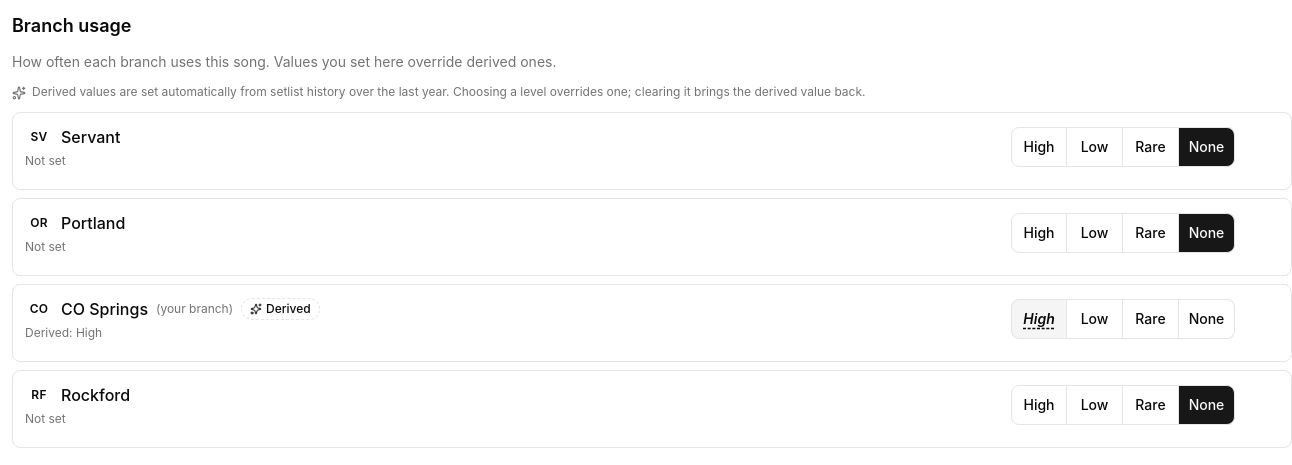
Test: UsageSection › clears a manual value back to none, or back to the derived value
Click the radio button labelled "High" in the row of "SV" at (1039, 147), box [1011,127,1067,167]
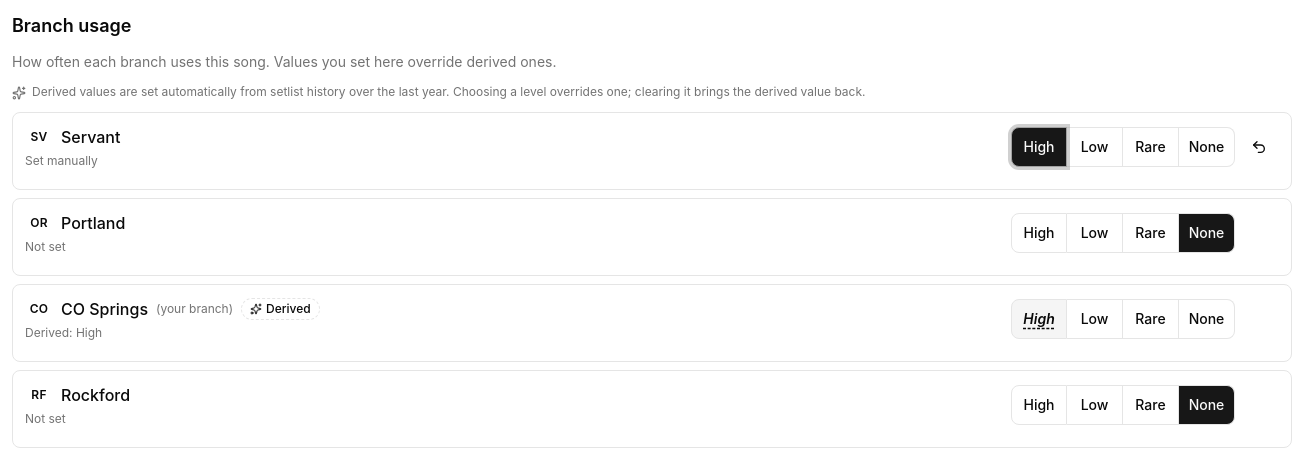
Click the button named "Clear Servant usage" at (1259, 147), box [1239,127,1279,167]
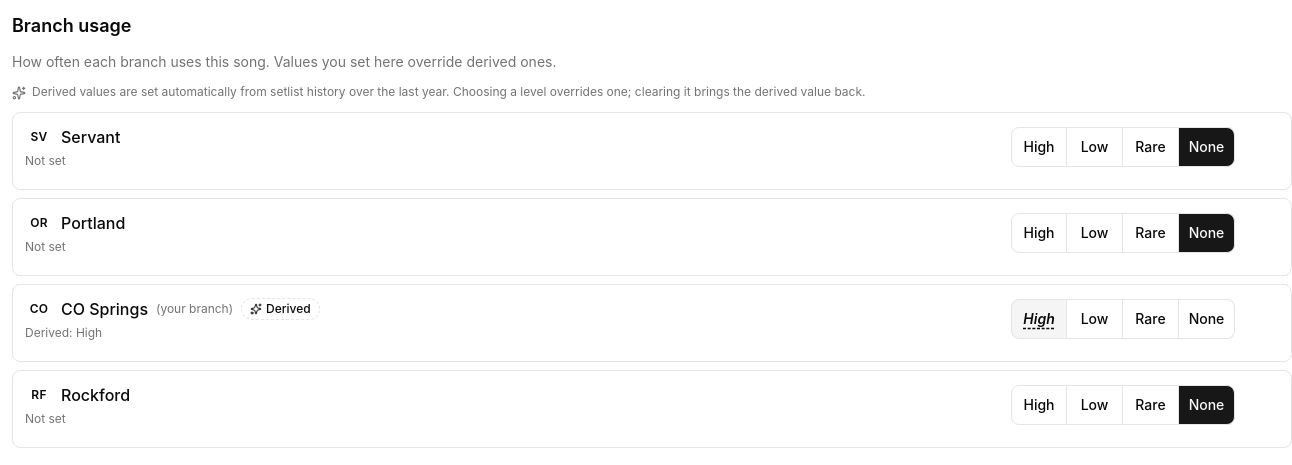
Check: the text "Not set" below "Servant" is shown, box [25,153,66,168]
Click the radio button labelled "Rare" in the row of "CO Springs" at (1151, 319), box [1123,299,1179,339]
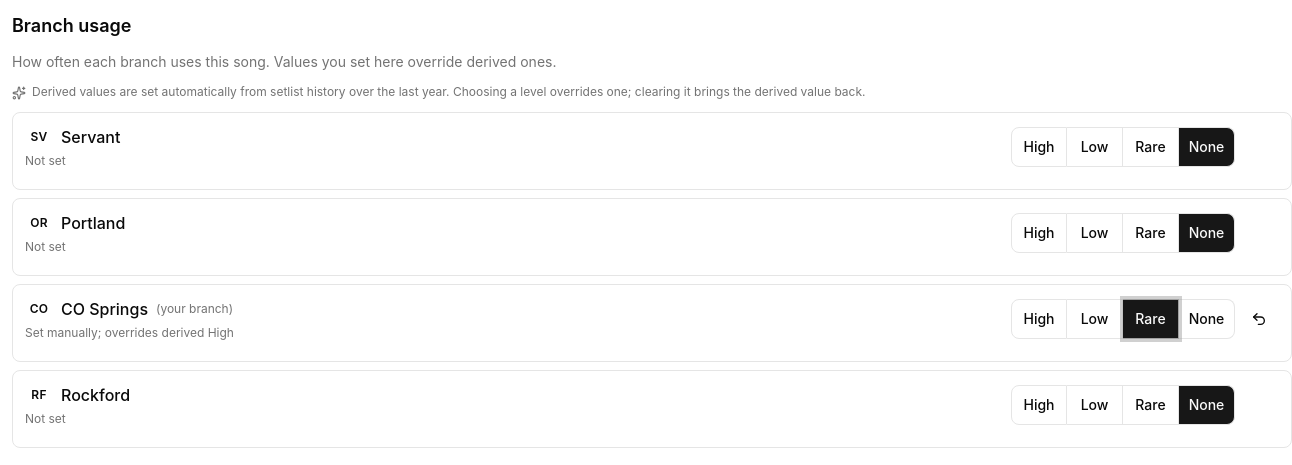
Click the button named "Clear CO Springs usage (back to derived High)" at (1259, 319), box [1239,299,1279,339]
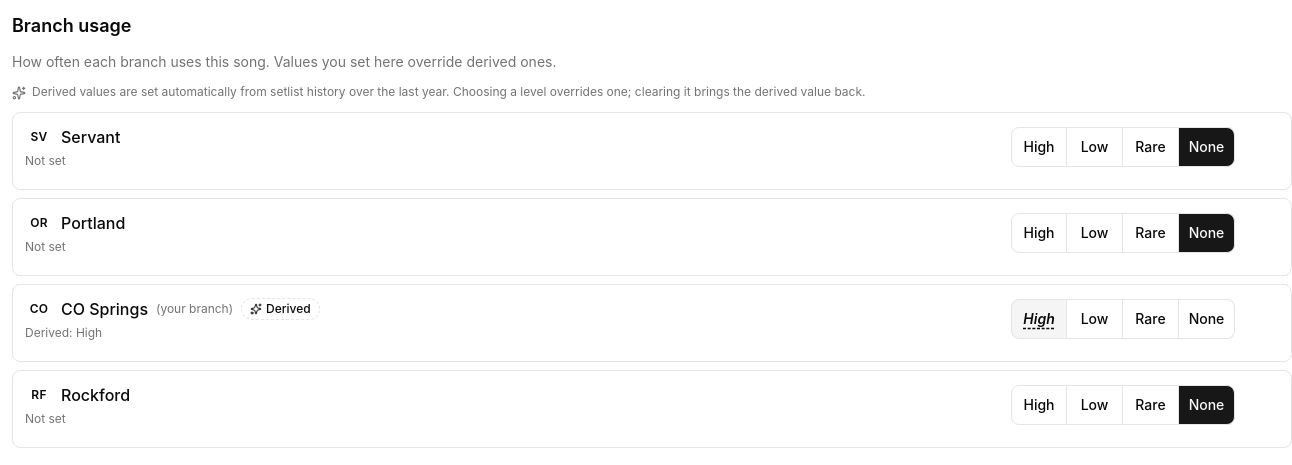
Check: the text "Derived" is shown, box [241,298,320,320]
